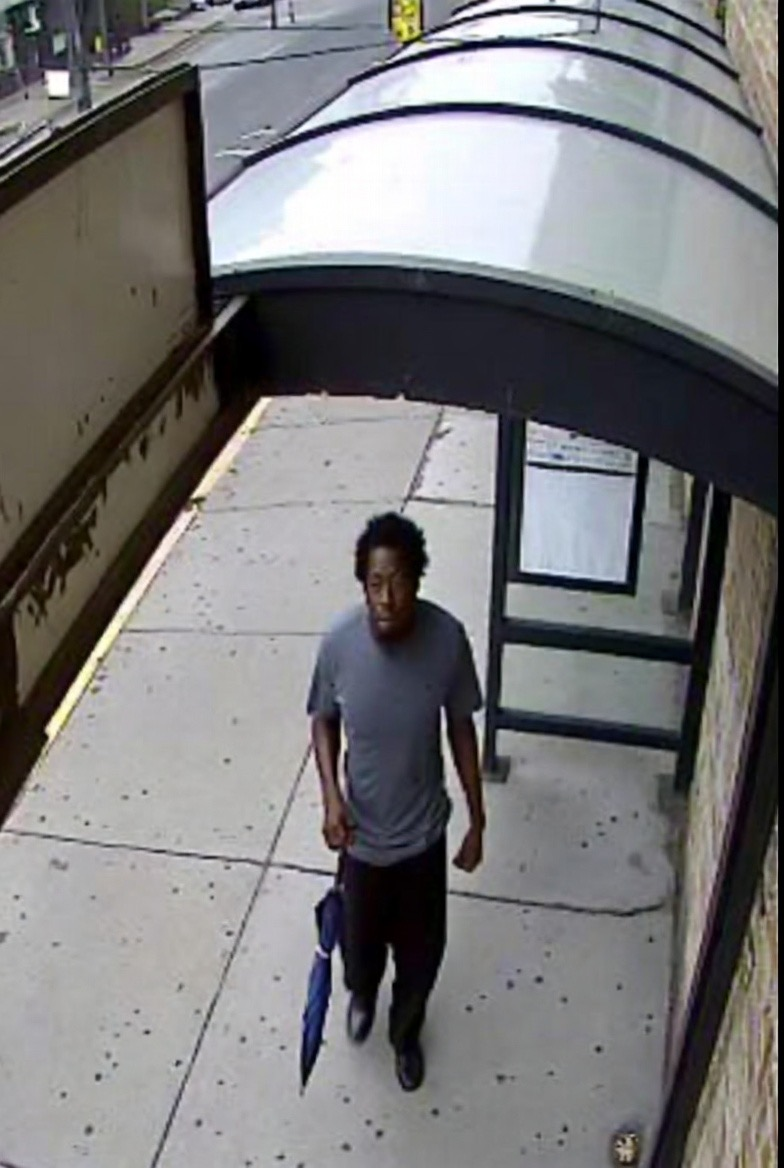person: (305, 512, 487, 1094)
umbrella: (299, 886, 345, 1094)
